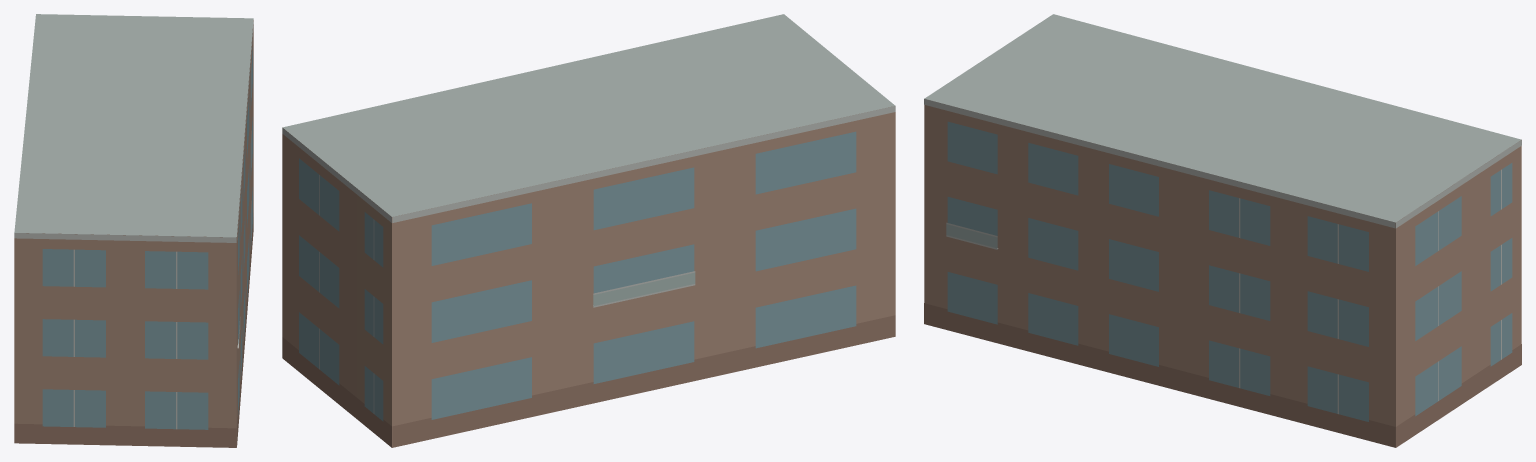
The model's file is survey-upis-32945475.glb.
The picture shows the model from 3 angles, left to right: view 1: azimuth 30°, elevation 25°; view 2: azimuth 150°, elevation 25°; view 3: azimuth 270°, elevation 25°; orthographic projection. The views are drawn at different scales.
Visible parts, largest first — view 1: survey-upis-32945475.tmp; view 2: survey-upis-32945475.tmp; view 3: survey-upis-32945475.tmp.
Boxes of the visible parts, bbox=[...] form: survey-upis-32945475.tmp: bbox=[14, 14, 253, 447]; survey-upis-32945475.tmp: bbox=[282, 14, 895, 447]; survey-upis-32945475.tmp: bbox=[924, 14, 1521, 447].
Bounding box in the file's own units: 18.17 × 9.15 × 22.
